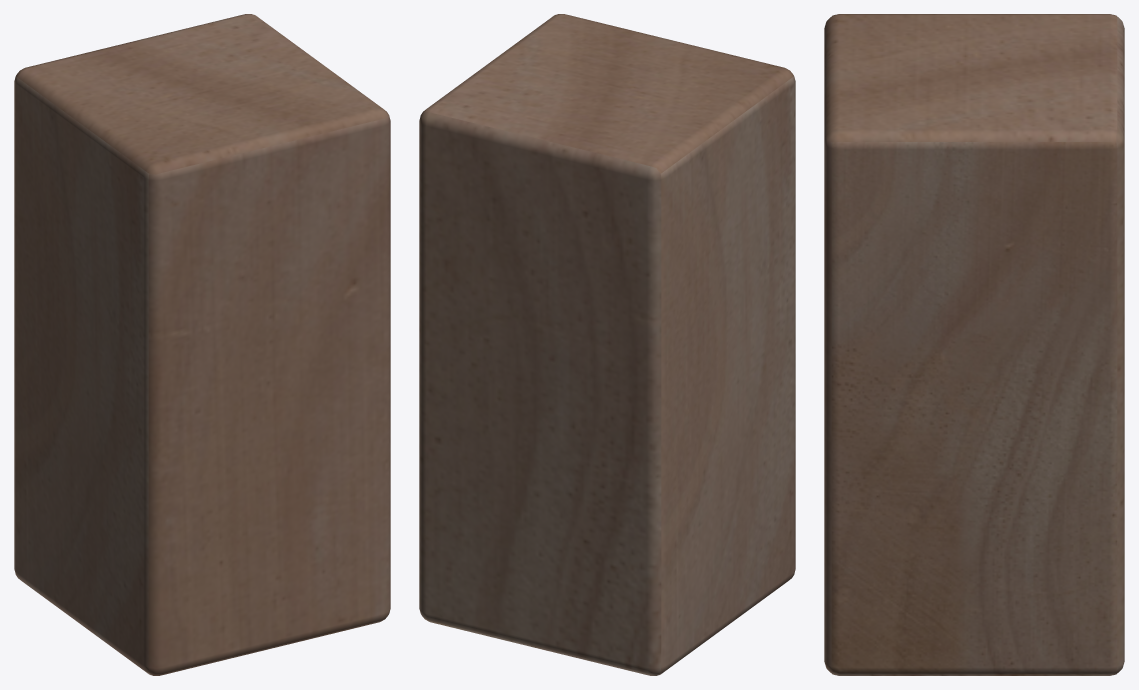
File: balok2.glb
3 views of the same model, side by side, from view 1: azimuth 30°, elevation 25°; view 2: azimuth 150°, elevation 25°; view 3: azimuth 270°, elevation 25° (orthographic). The views are drawn at different scales.
Visible parts, largest first — view 1: pCube2; view 2: pCube2; view 3: pCube2.
Boxes of the visible parts, <box> form: pCube2: <box>14,14,390,675</box>; pCube2: <box>419,14,795,675</box>; pCube2: <box>824,14,1124,675</box>.
Bounding box in the file's own units: 0.0357 × 0.0714 × 0.0357.
1 material, 1 textured.
